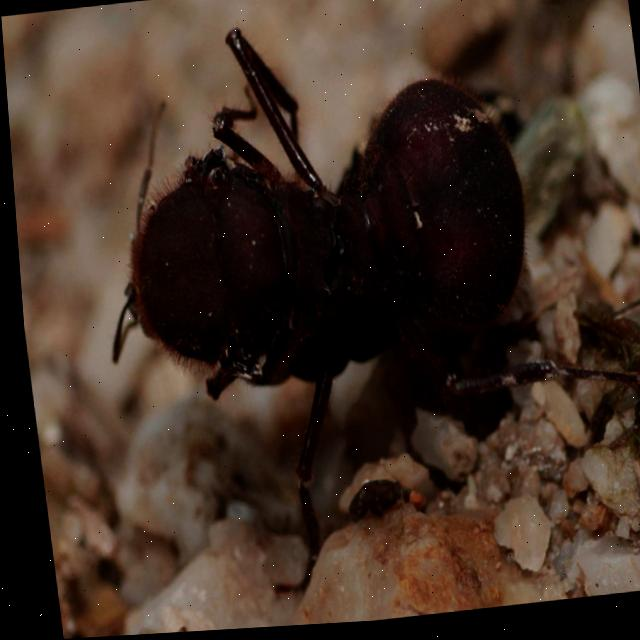Alive-Female-Dealate: (69, 0, 640, 615)
